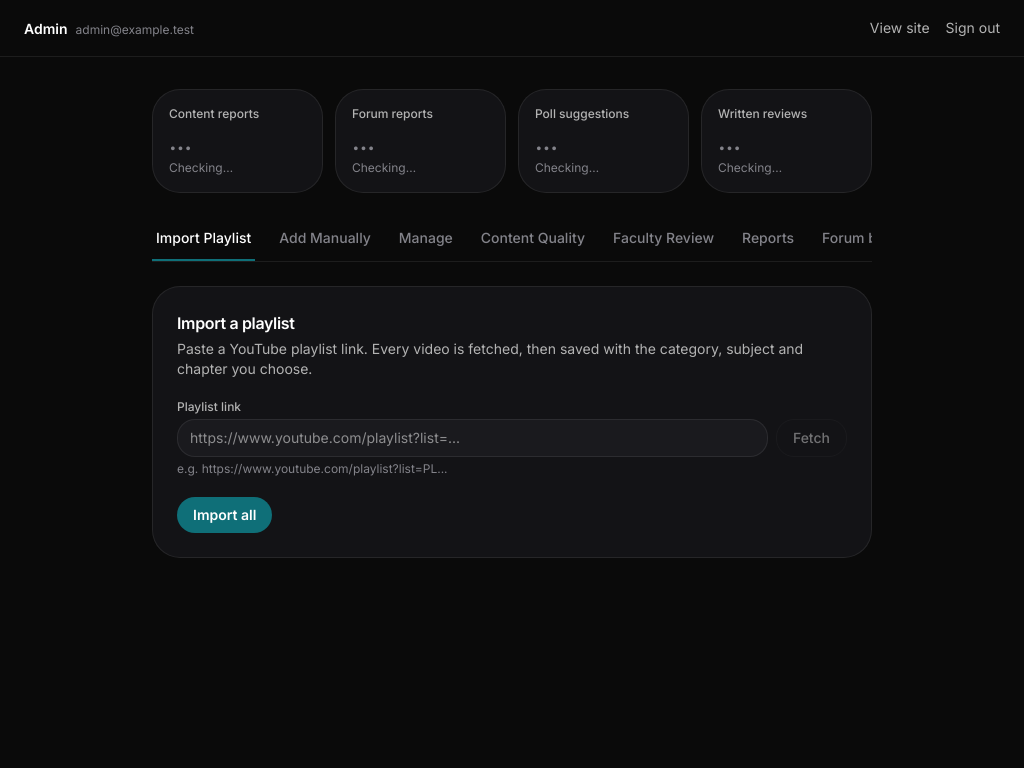
Scenario: AdminPanel Reports tab › surfaces an error instead of failing silently when resolving a report fails
Step 1. Click the button "Reports" → (768, 239), box left=738, top=217, right=798, bottom=261
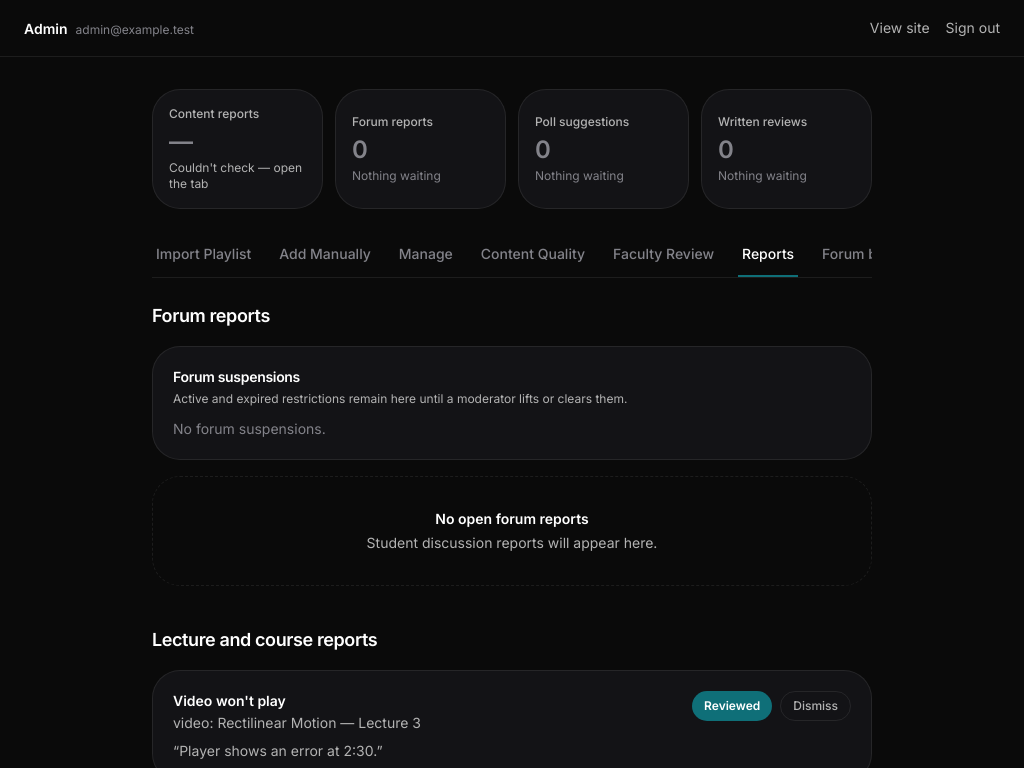
Step 2. Click the button "Dismiss" → (816, 706), box left=780, top=691, right=851, bottom=721
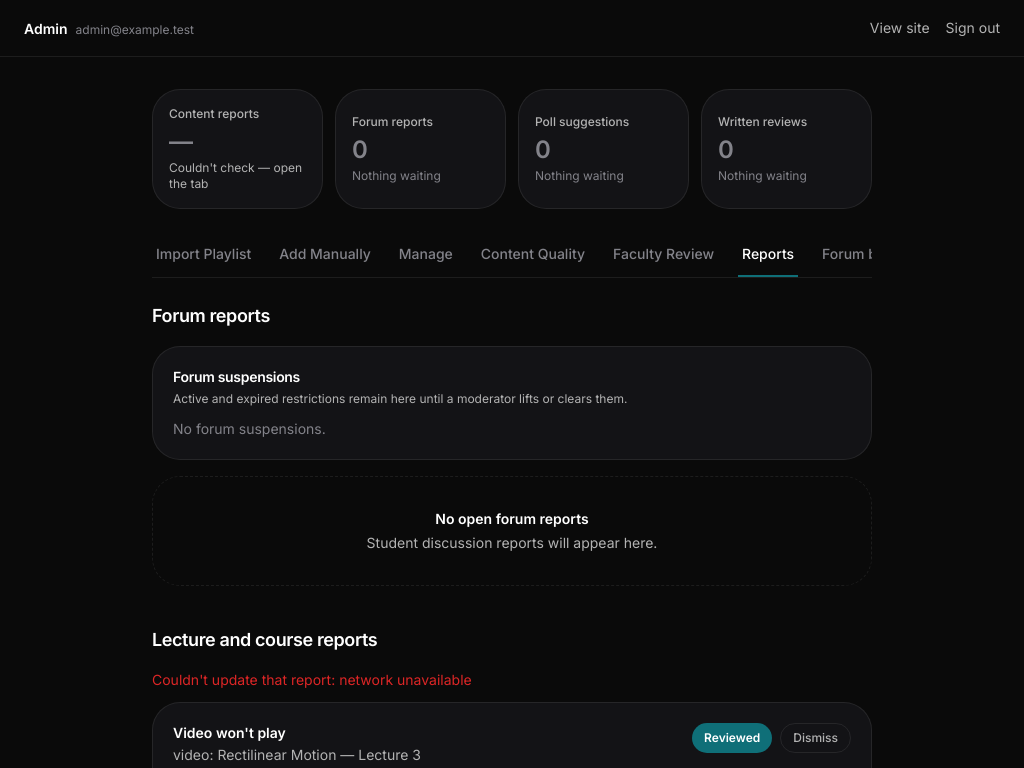
Expected: the text "Couldn't update that report: network unavailable" is shown, left=152, top=671, right=472, bottom=688
